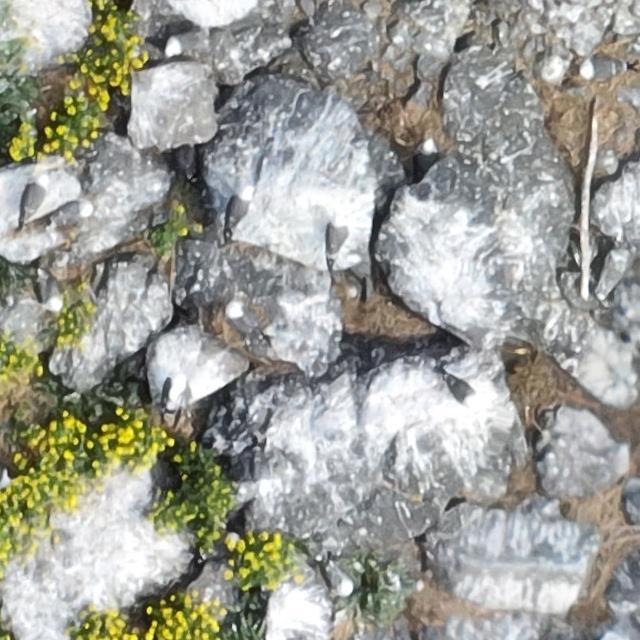umineko: (227, 302, 266, 348), (223, 186, 256, 236), (156, 373, 191, 415), (325, 215, 349, 267), (326, 560, 352, 602), (444, 375, 474, 404), (166, 33, 199, 56), (54, 202, 87, 224), (580, 60, 620, 78), (40, 274, 60, 308), (418, 138, 434, 162)
